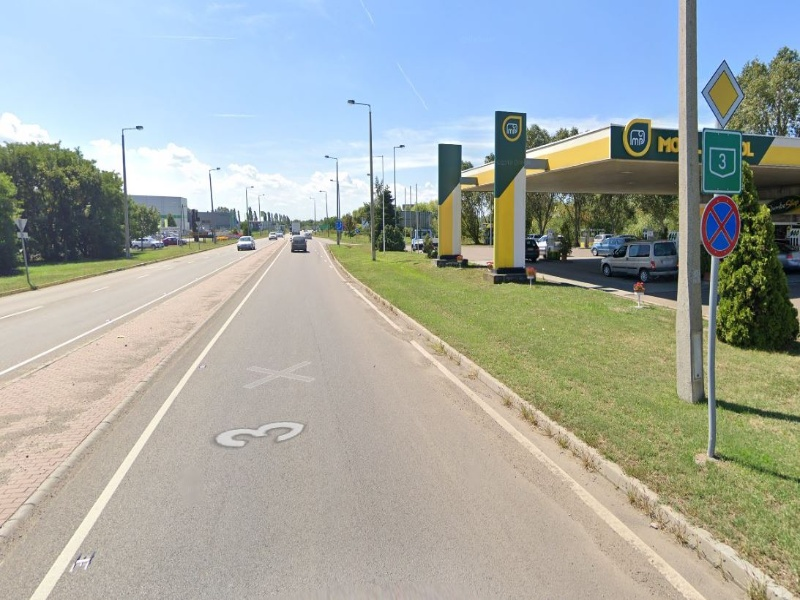fout: (706, 62, 744, 125)
